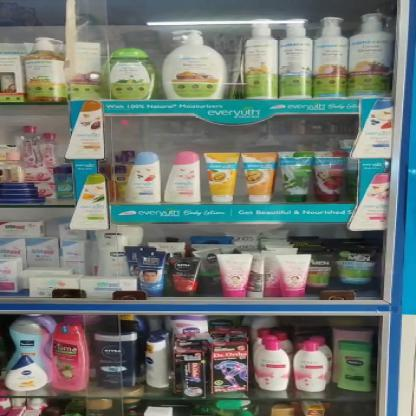Everyuth Naturals Body Lotion Rejuvenating Flora 200ml: (161, 150, 203, 203)
Everyuth Naturals Body Lotion Sun Care Berries SPF 15 200ml: (124, 151, 164, 203)
